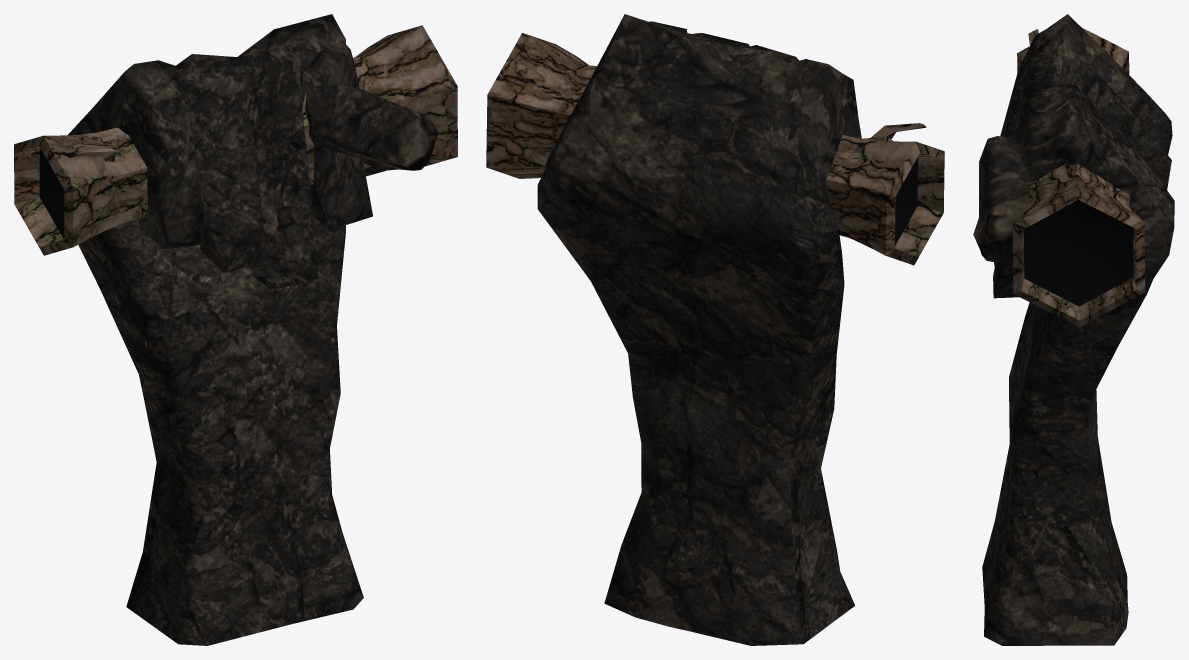
Rendered from LoveDeath_Hand_Art.glb.
3 views of the same model, side by side, from view 1: azimuth 30°, elevation 25°; view 2: azimuth 150°, elevation 25°; view 3: azimuth 270°, elevation 25° (orthographic). The views are drawn at different scales.
Visible parts, largest first — view 1: LoveDeath_Hand_Art; view 2: LoveDeath_Hand_Art; view 3: LoveDeath_Hand_Art.
Boxes of the visible parts, x1,y1,x2,y2 form: LoveDeath_Hand_Art: [14, 14, 457, 645]; LoveDeath_Hand_Art: [486, 14, 944, 645]; LoveDeath_Hand_Art: [973, 14, 1174, 645].
Size of the model in its own units: 6.82 by 9.25 by 3.13.
3 materials, 3 textured.
